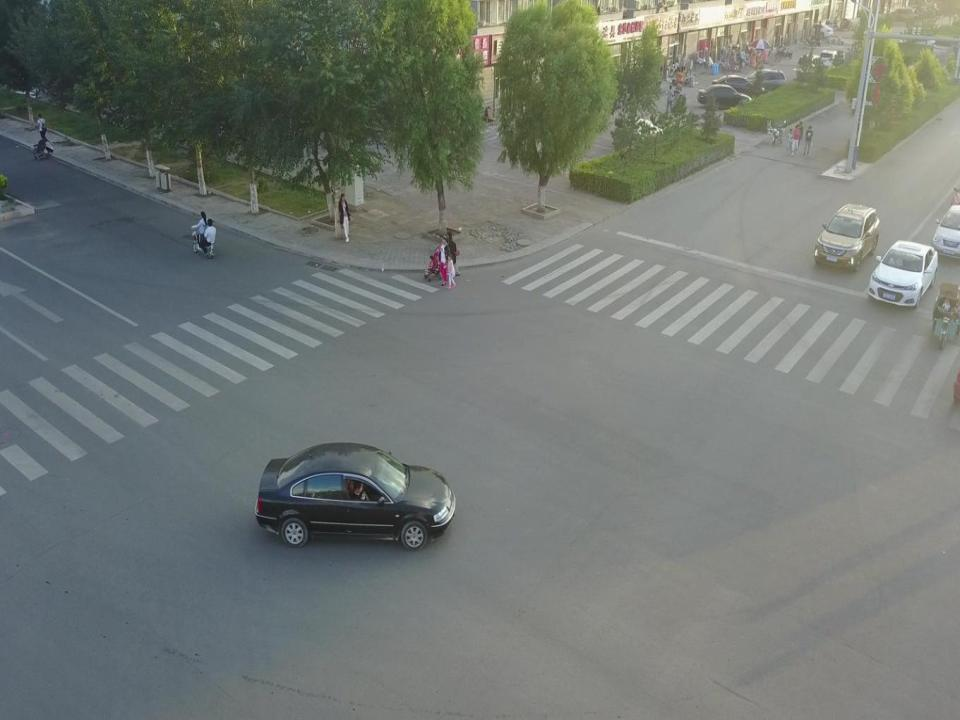car: (253, 443, 456, 554), (868, 240, 938, 307), (815, 203, 880, 274), (932, 204, 960, 260), (698, 86, 753, 109), (712, 75, 764, 97), (625, 118, 664, 144), (807, 22, 833, 38), (820, 50, 839, 68)
van: (742, 70, 787, 90), (796, 54, 820, 76)
